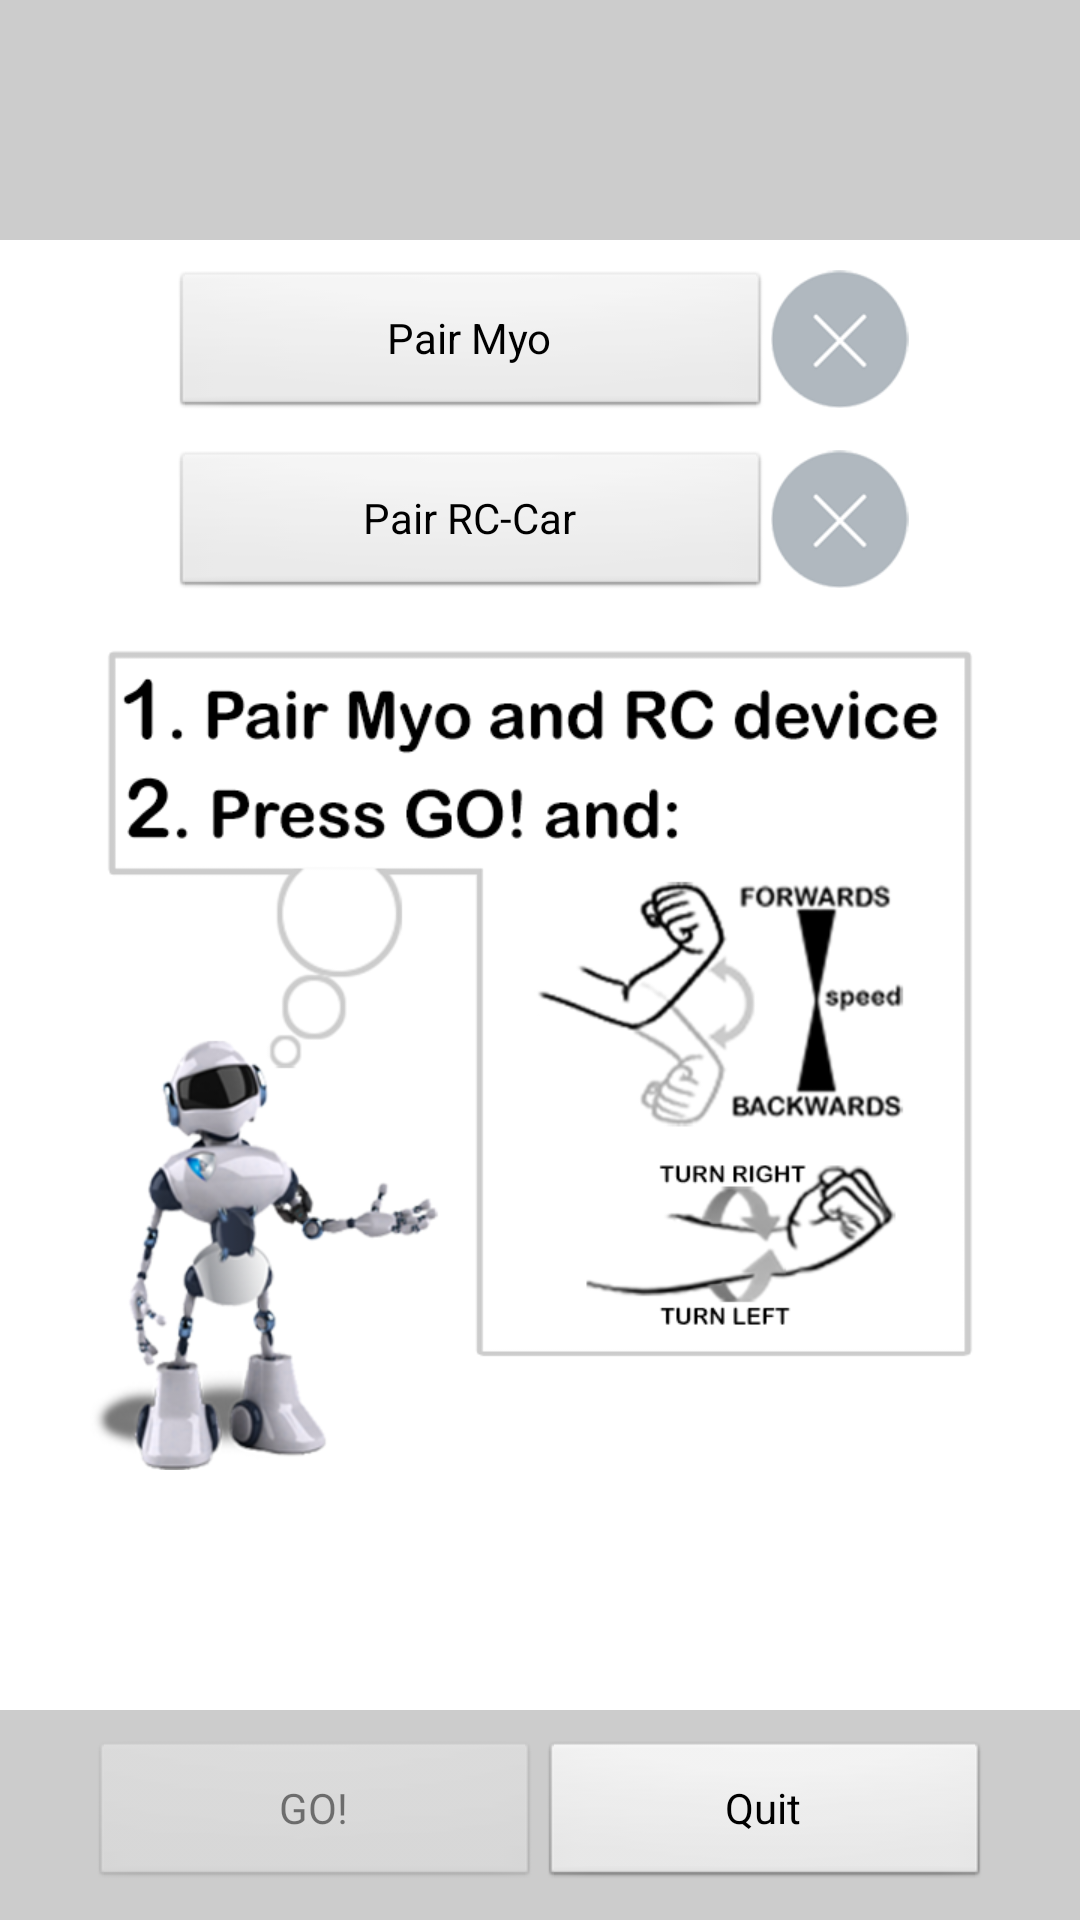

Locate icon controls on the screen. Image size 1080×1920, boxes as (x1, y1, x2, y2).
Status of Myo device: (771, 270, 909, 408)
